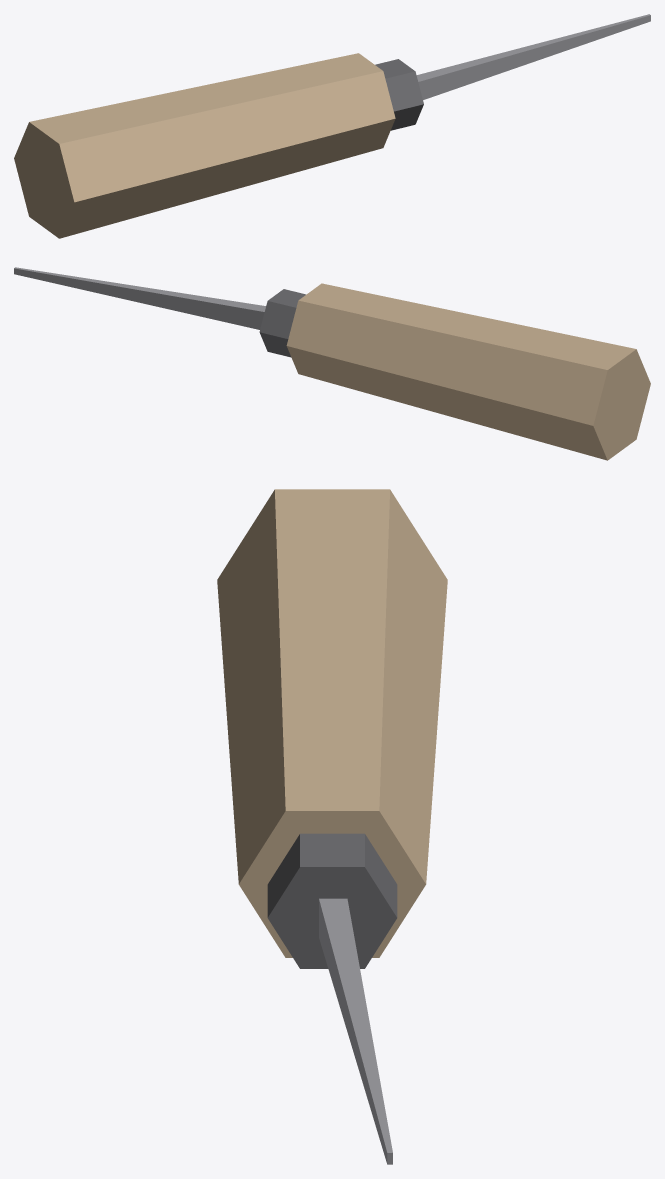
File: prop-welt-awl-lm1.fbx
The picture shows the model from 3 angles, top to bottom: view 1: azimuth 30°, elevation 25°; view 2: azimuth 150°, elevation 25°; view 3: azimuth 270°, elevation 25°; orthographic projection. The views are drawn at different scales.
Visible parts, largest first — view 1: prop-welt-awl-lm1; view 2: prop-welt-awl-lm1; view 3: prop-welt-awl-lm1.
Part boxes in pixels (x1=…): prop-welt-awl-lm1: x1=14, y1=14, x2=650, y2=238; prop-welt-awl-lm1: x1=14, y1=267, x2=650, y2=460; prop-welt-awl-lm1: x1=217, y1=489, x2=447, y2=1164.
Bounding box in the file's own units: 19 × 2.77 × 3.2.
